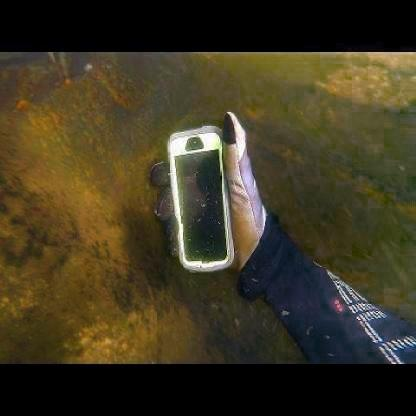cellphone: (168, 128, 236, 272)
